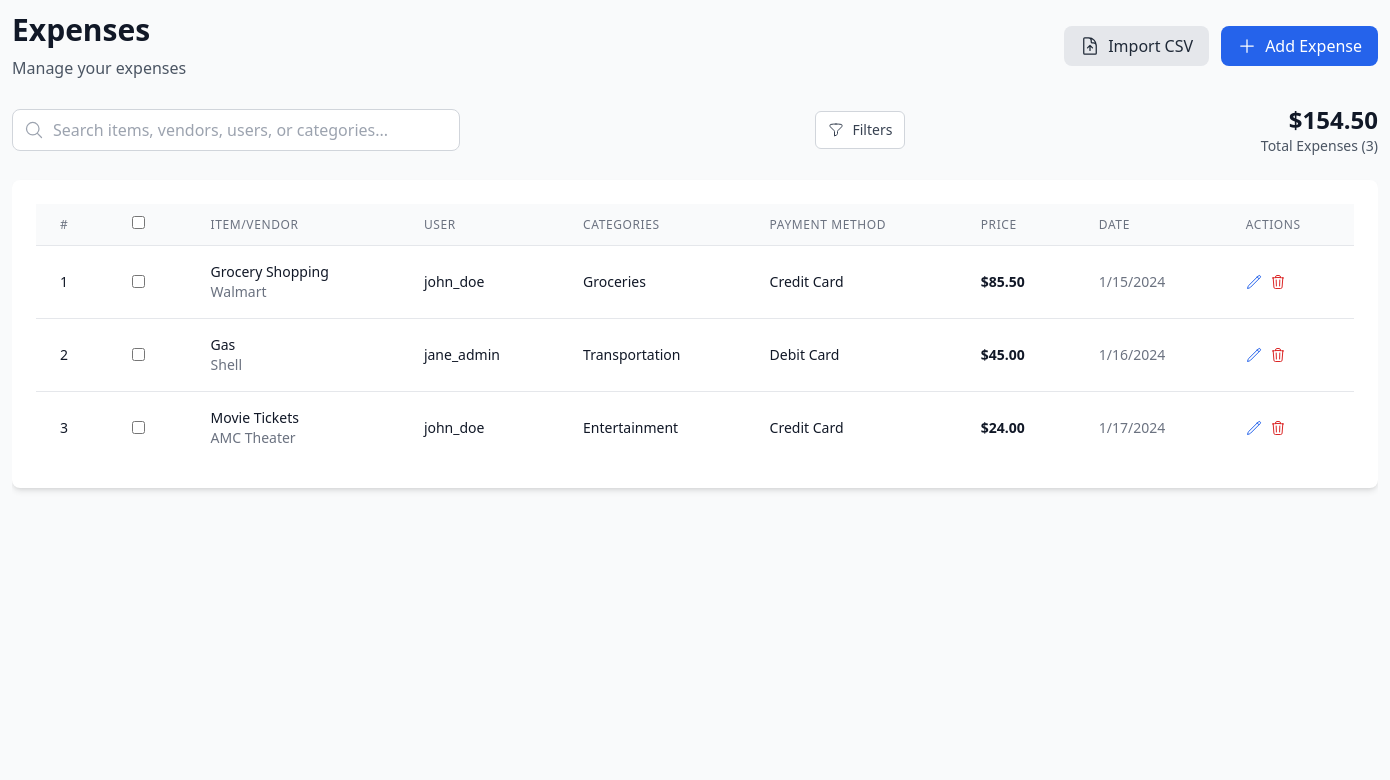
it: Expenses › Filter Functionality › shows filter controls when filter button is clicked
Click the button "Filters": (860, 130) [816,111,905,149]
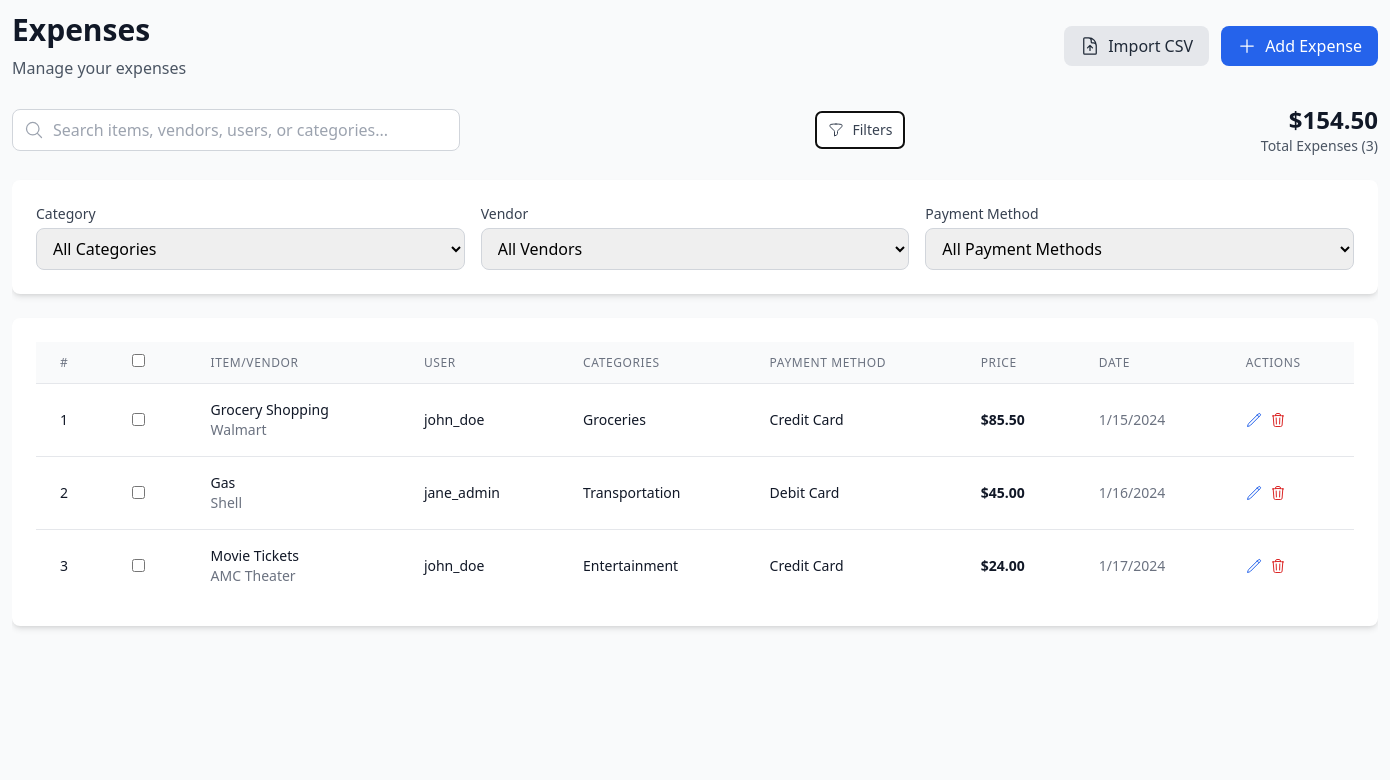
Now the text "Category" is shown, box [36,204,96,223]
Now the text "Vendor" is shown, box [481,204,528,223]
Now the text "Payment Method" is shown, box [925,204,1038,223]
